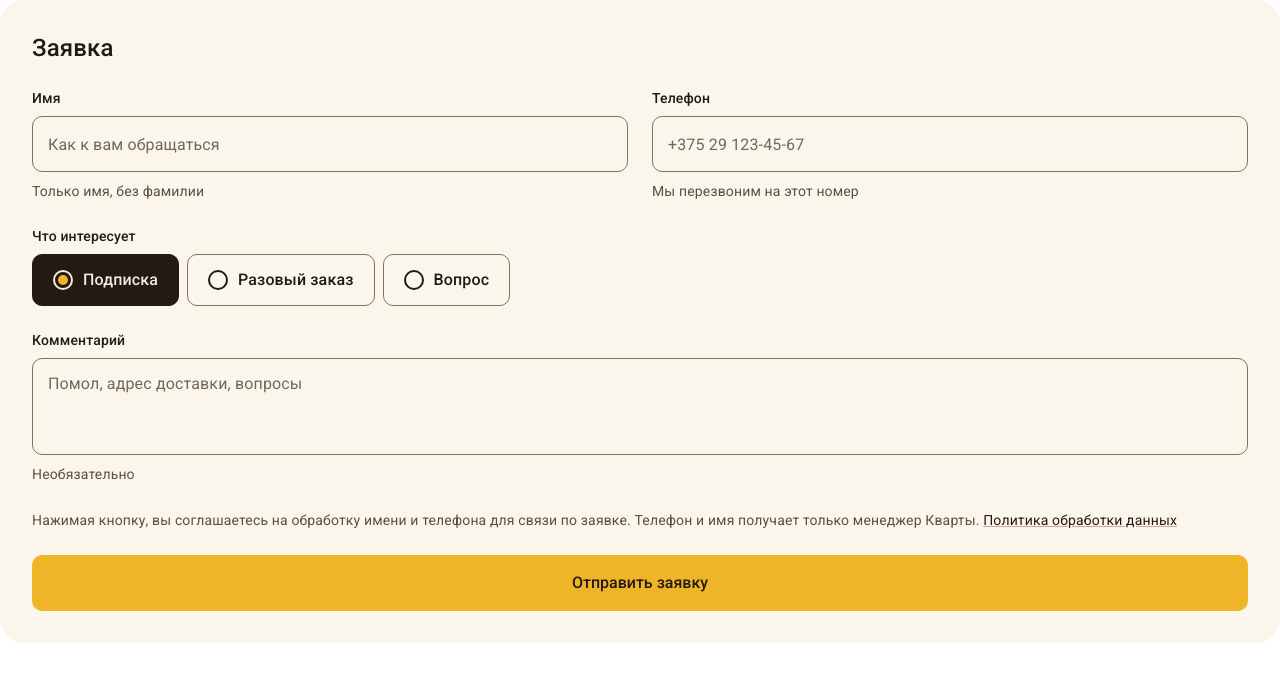
Test: LeadForm validation › shows the phone error tied by aria-describedby, aria-invalid and the summary, without fetching
Type "Анна" into the field labelled "Имя" at (330, 144), box [32,116,628,172]
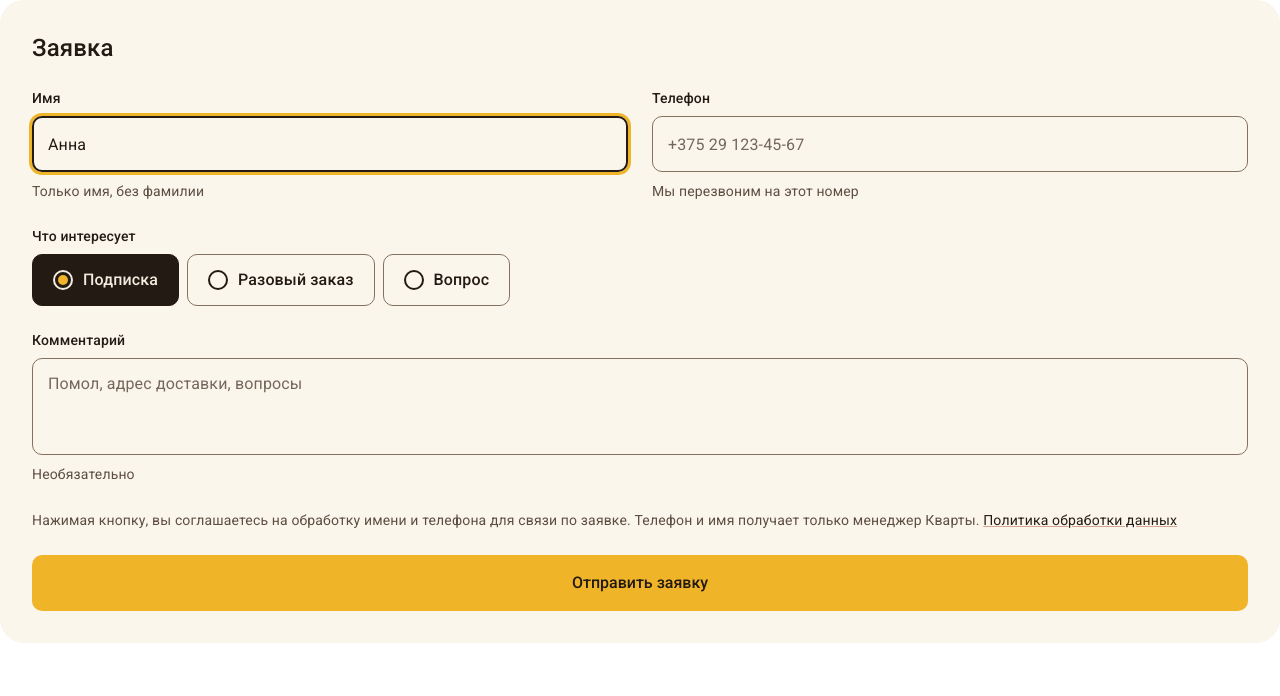
Type "+375 29 12" into the field labelled "Телефон" at (950, 144), box [652,116,1248,172]
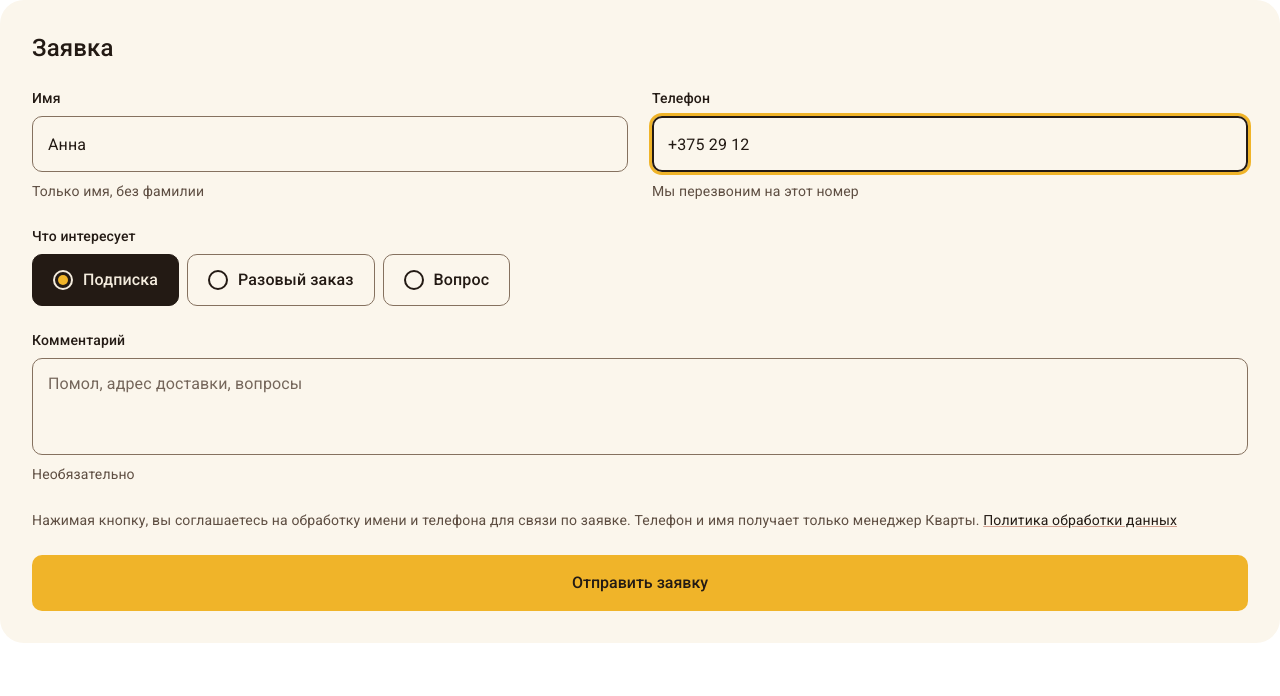
Click the button "Отправить заявку" at (640, 583), box [32,555,1248,611]
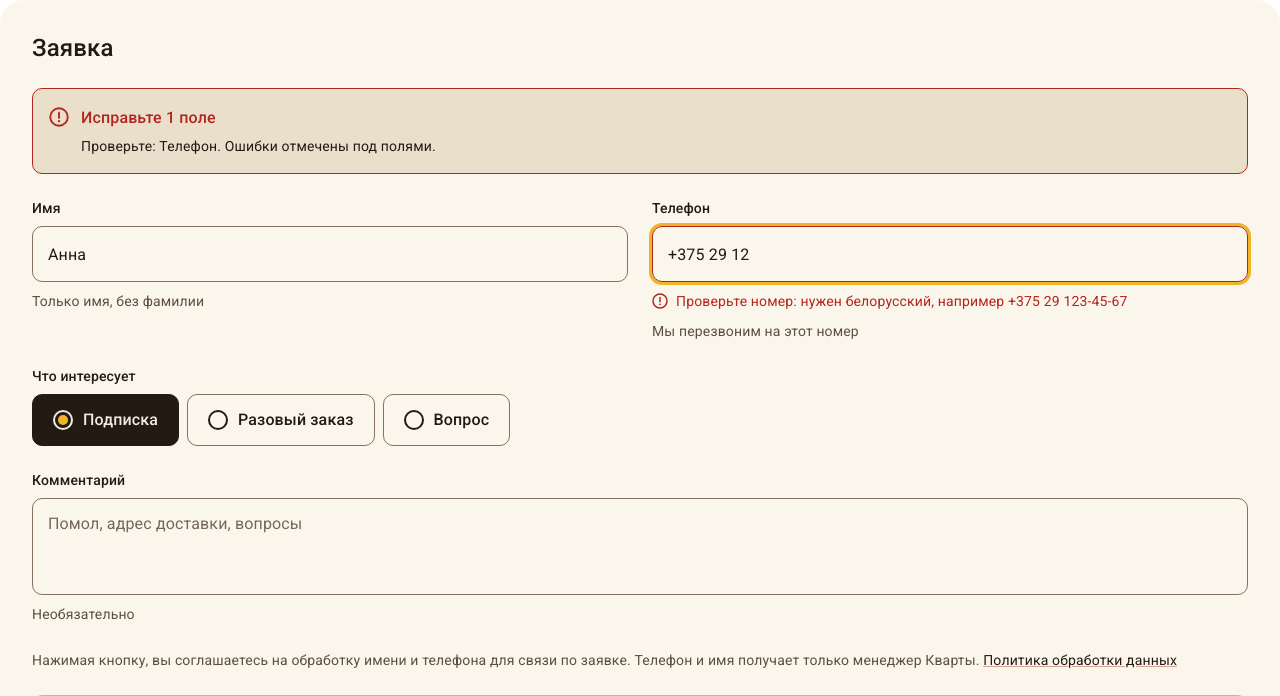
Check: the element with id "lead-phone-error" reads "Проверьте номер: нужен белорусский, например +375 29 123-45-67", box [676,293,1128,309]
Check: the text "Проверьте номер: нужен белорусский, например +375 29 123-45-67" is shown, box [676,290,1128,312]
Check: the message shows "Исправьте 1 поле", box [81,108,216,127]
